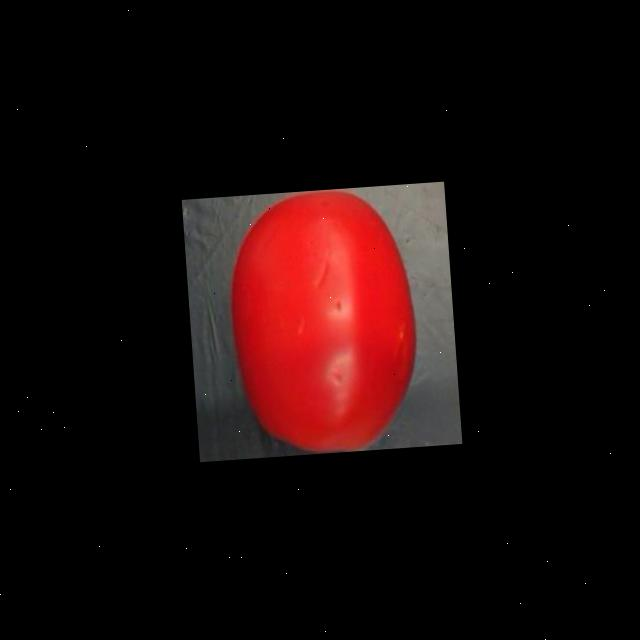tomato: (212, 182, 426, 457)
